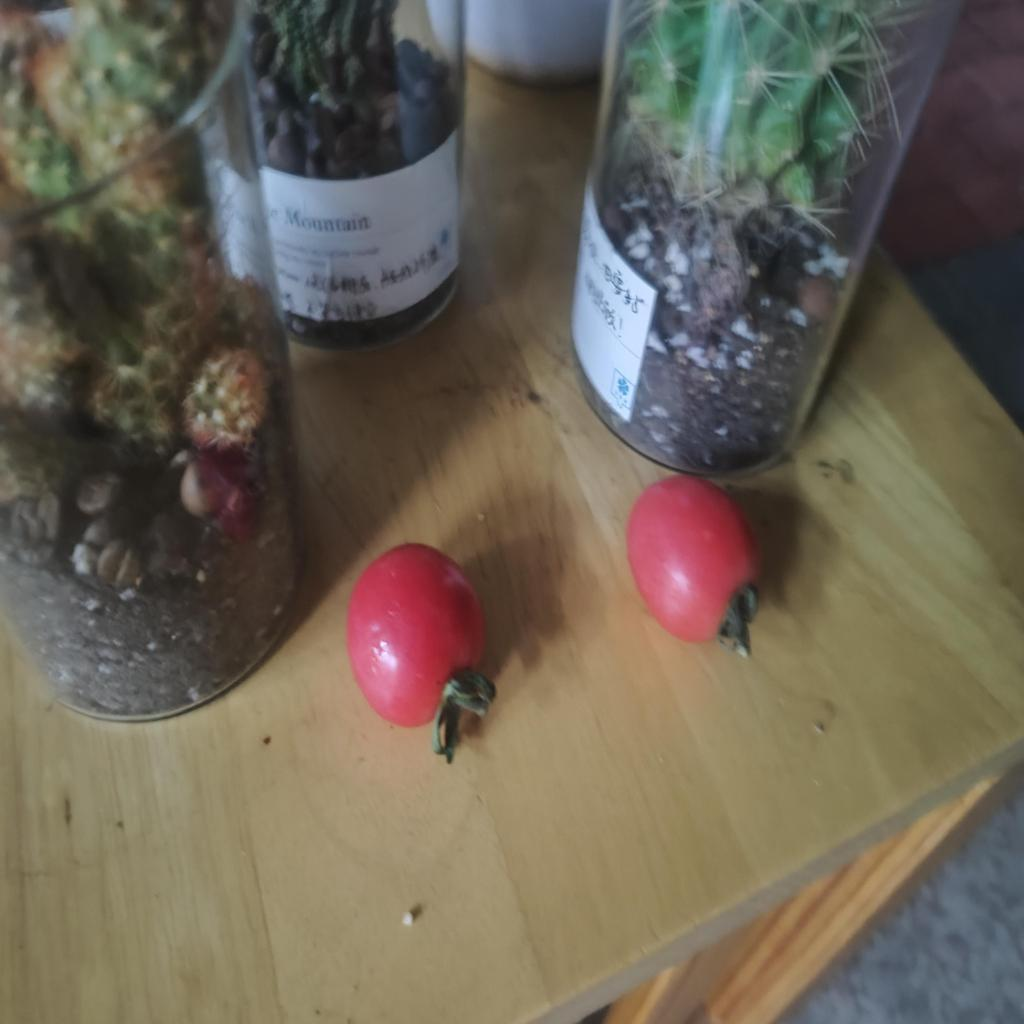tomato: (350, 548, 495, 732), (620, 478, 769, 647)
